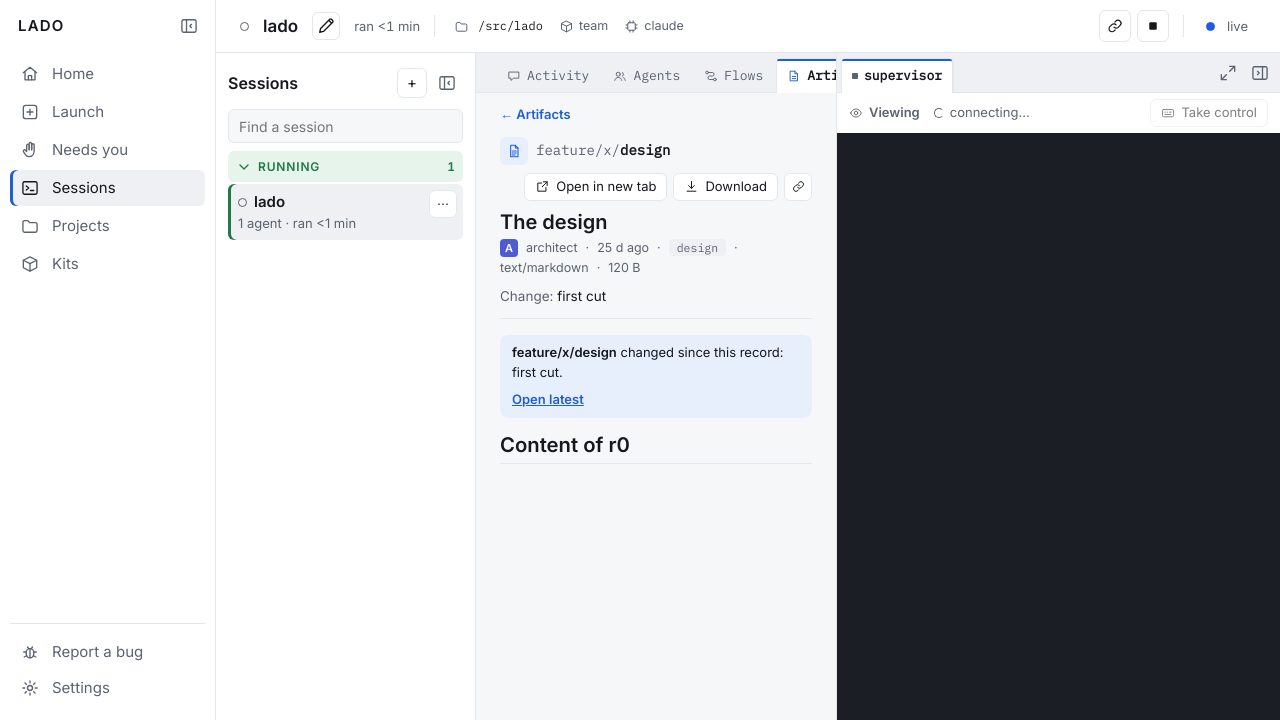
Test: a page of an older record says the artifact changed since and opens the latest in the panel
The image size is (1280, 720).
Expected: the heading "Content of r0" is shown, [500,432,812,464]
Click the button "Open latest" at {"x": 548, "y": 400}, box [512,390,584,410]
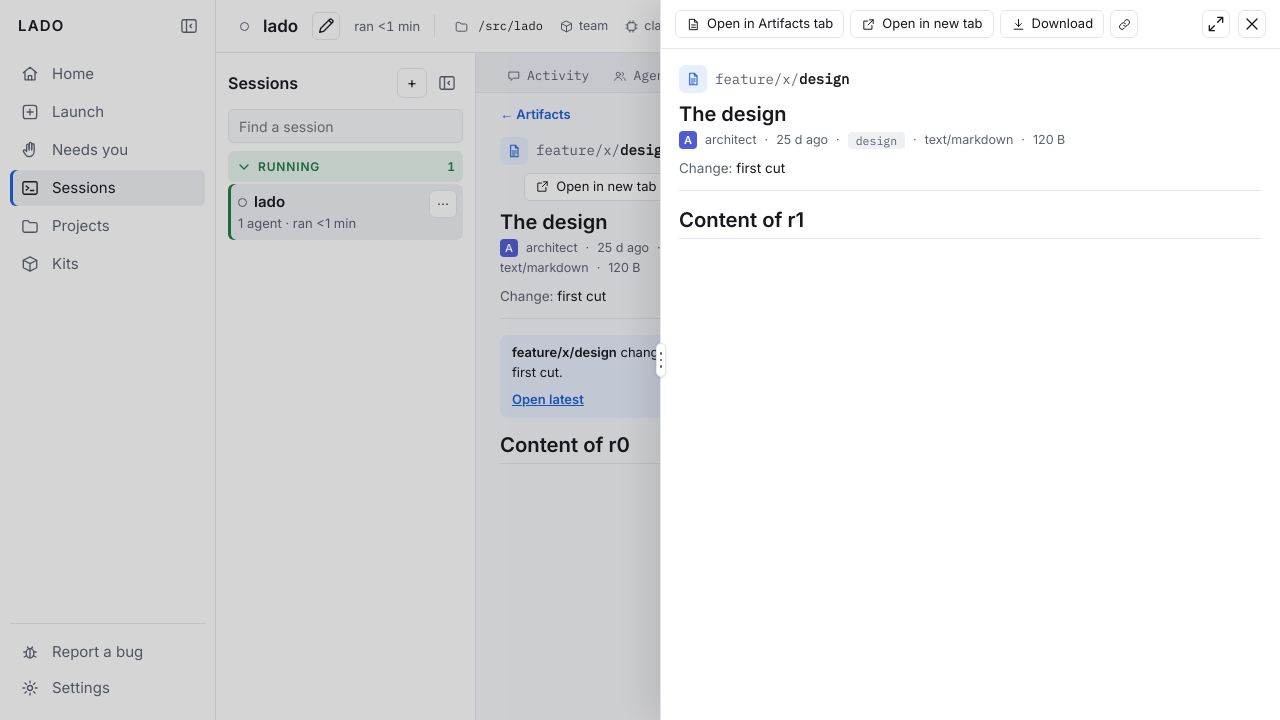
Expected: the heading "Content of r1" is shown, [679,207,1262,239]
